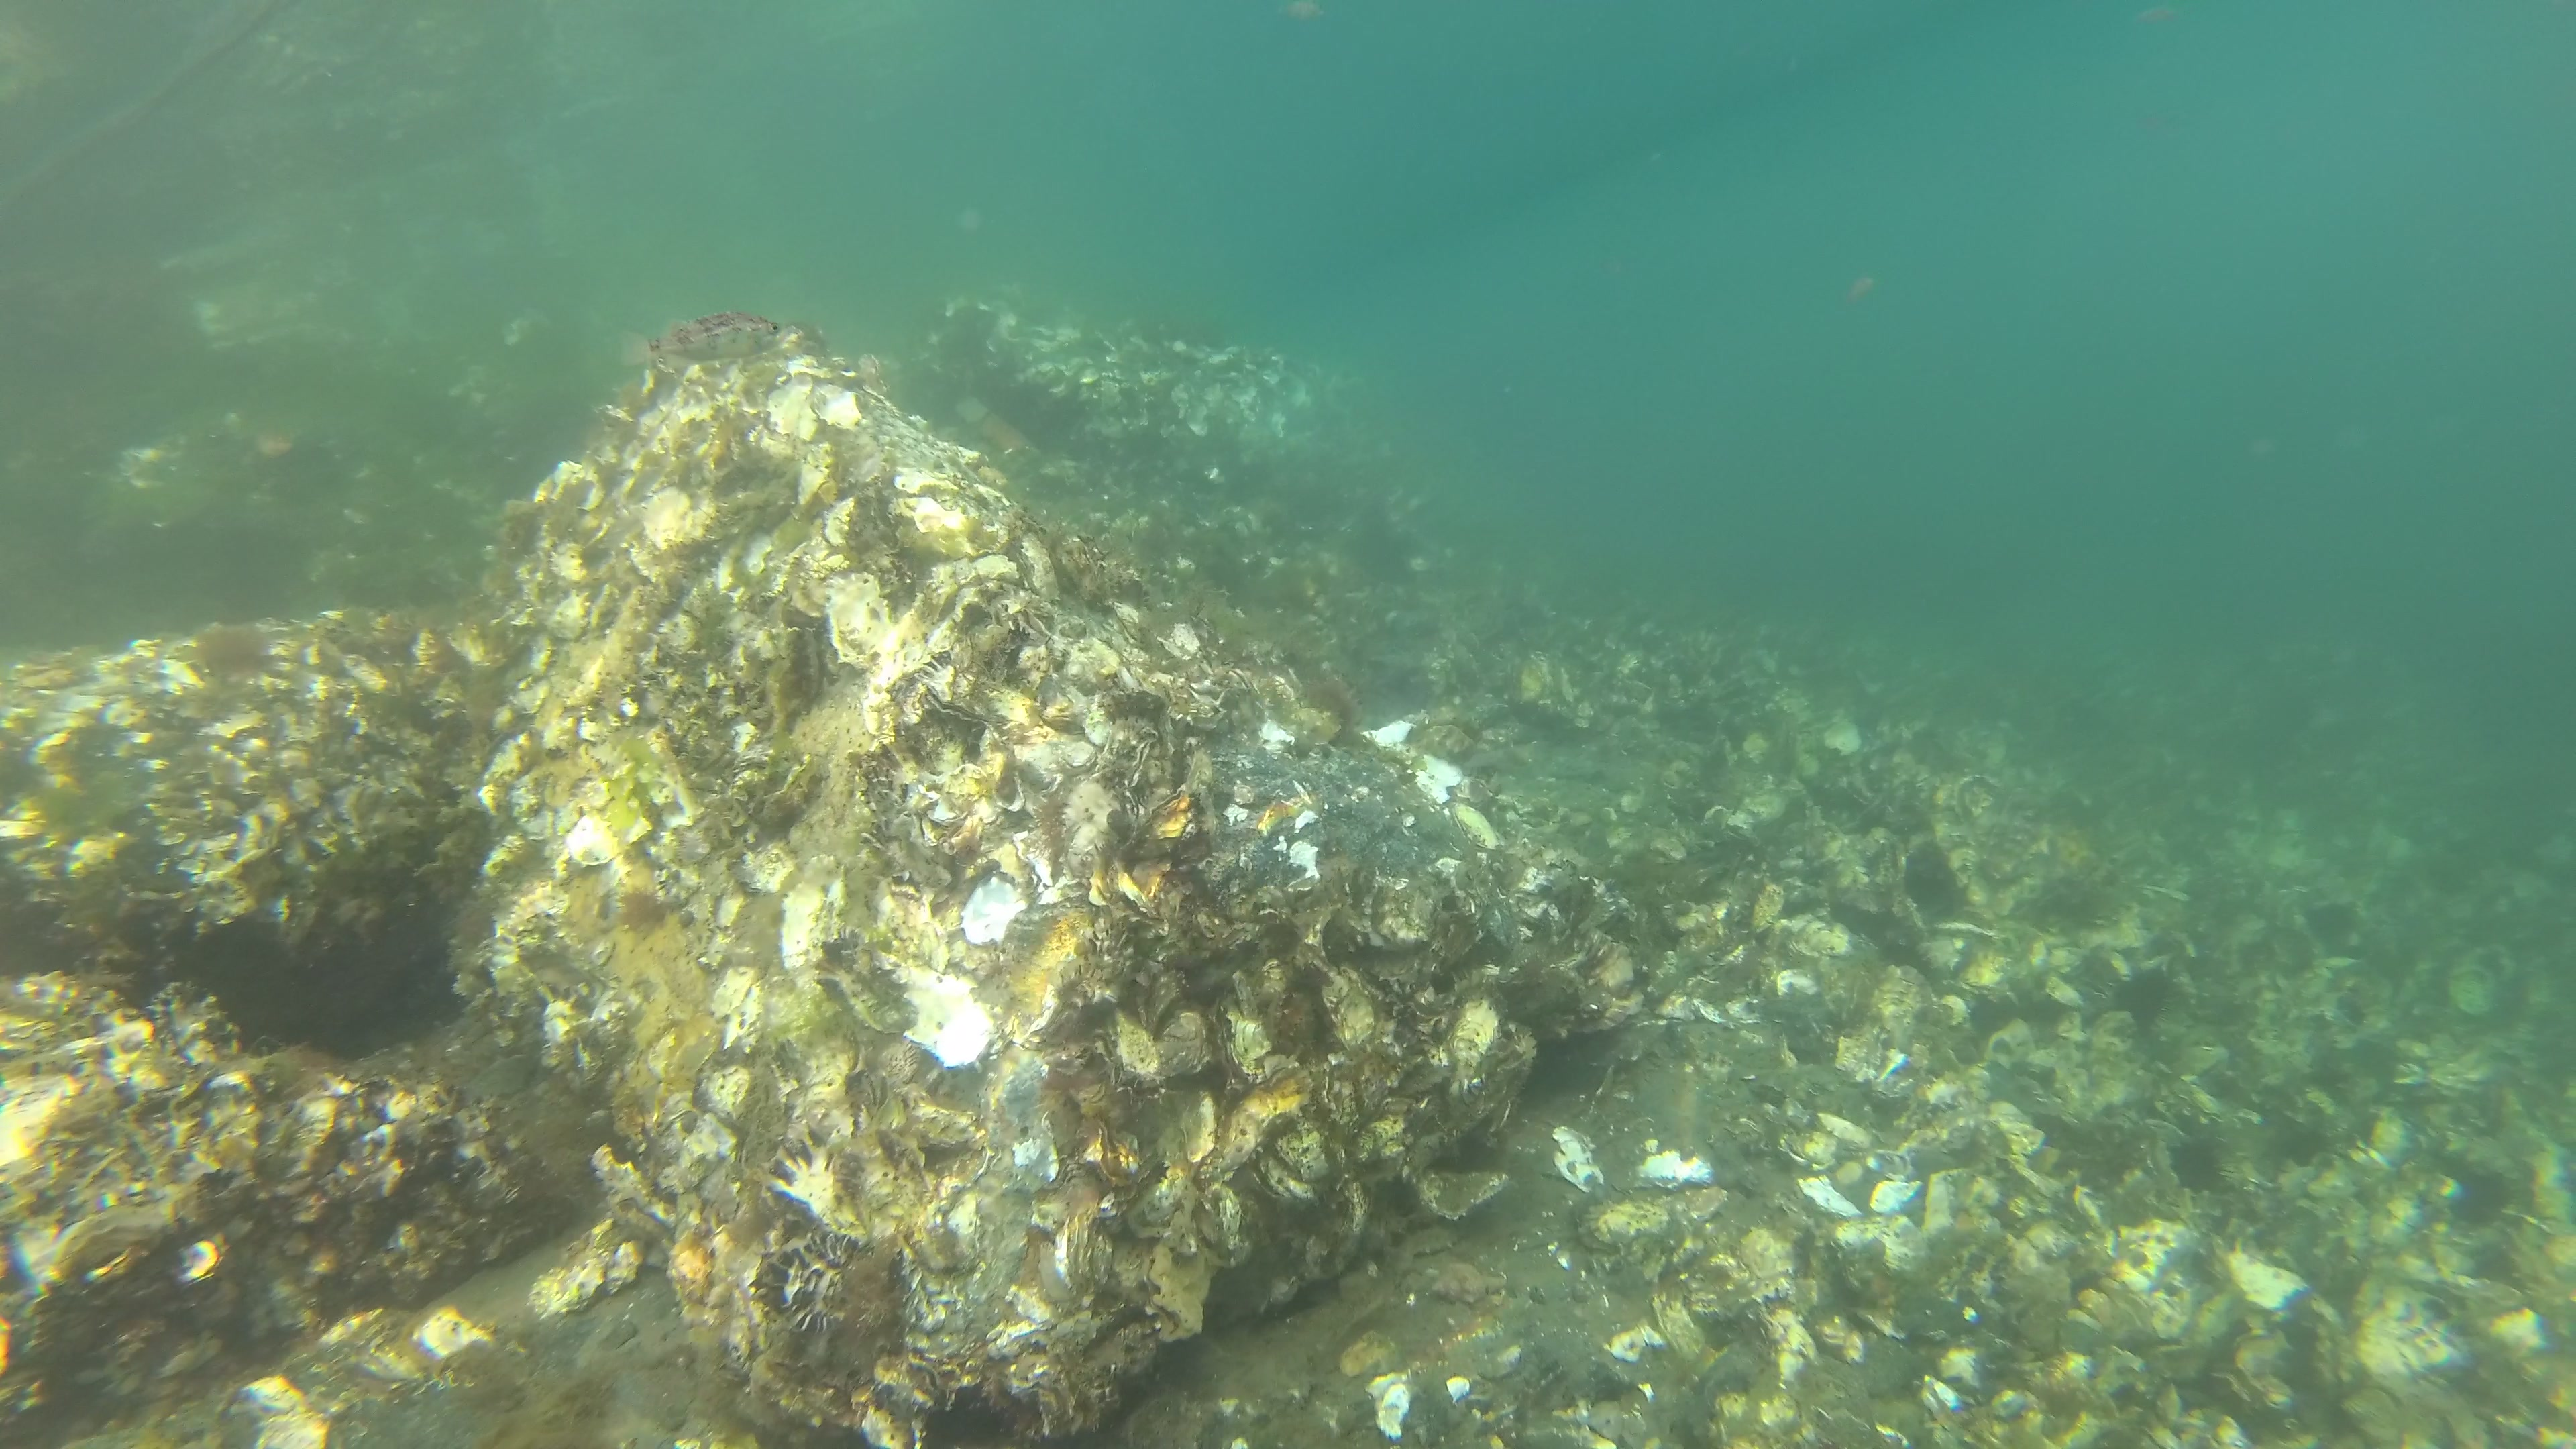echinus: (1902, 846, 1966, 911), (2454, 1164, 2514, 1230), (2116, 966, 2181, 1024), (2167, 1132, 2226, 1191)
